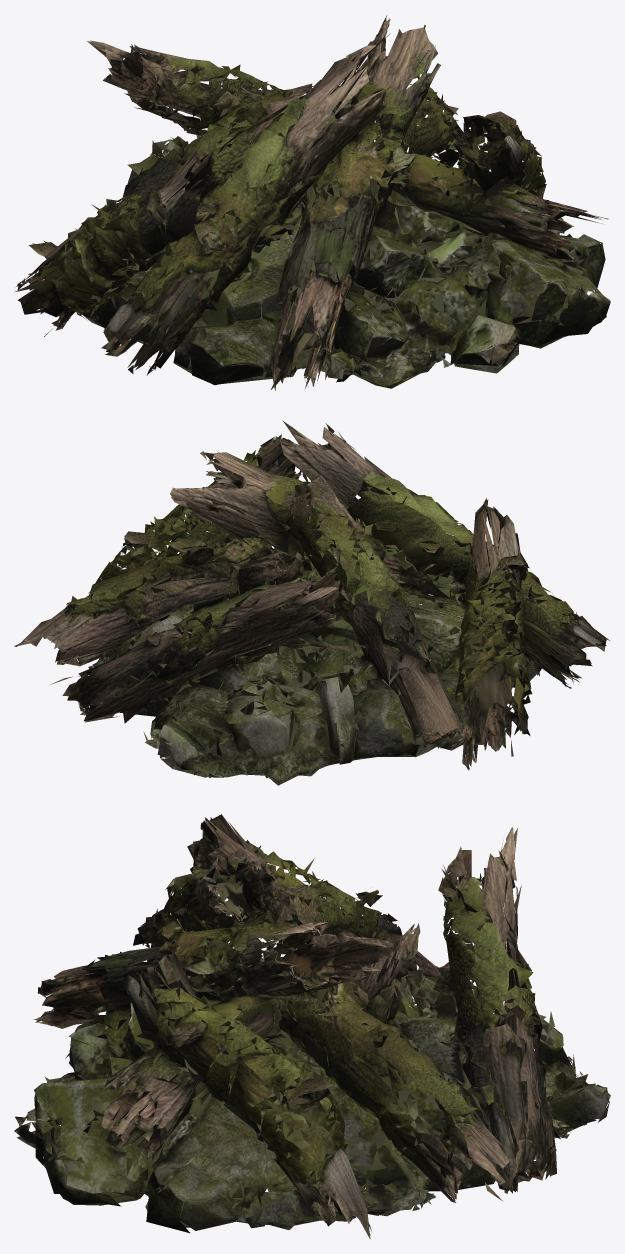
File: Mossy_Timber_Ruins_town.glb
The picture shows the model from 3 angles, top to bottom: view 1: azimuth 30°, elevation 25°; view 2: azimuth 150°, elevation 25°; view 3: azimuth 270°, elevation 25°; orthographic projection. The views are drawn at different scales.
Parts seen in each view (by area): view 1: Mossy_Timber_Ruins; view 2: Mossy_Timber_Ruins; view 3: Mossy_Timber_Ruins.
Boxes of the visible parts, x1,y1,x2,y2 form: Mossy_Timber_Ruins: [14, 15, 610, 390]; Mossy_Timber_Ruins: [14, 420, 609, 785]; Mossy_Timber_Ruins: [14, 814, 610, 1238].
Bounding box in the file's own units: 1.89 × 0.9385 × 1.78.
1 material, 1 textured.
